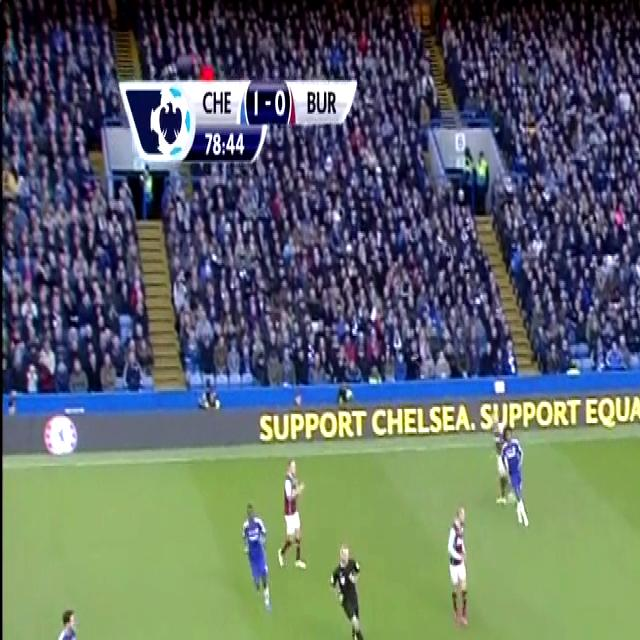referee: (327, 537, 376, 640)
soccer-player: (274, 450, 312, 583), (234, 494, 274, 615), (498, 414, 538, 534), (439, 500, 474, 635), (46, 601, 86, 640)
